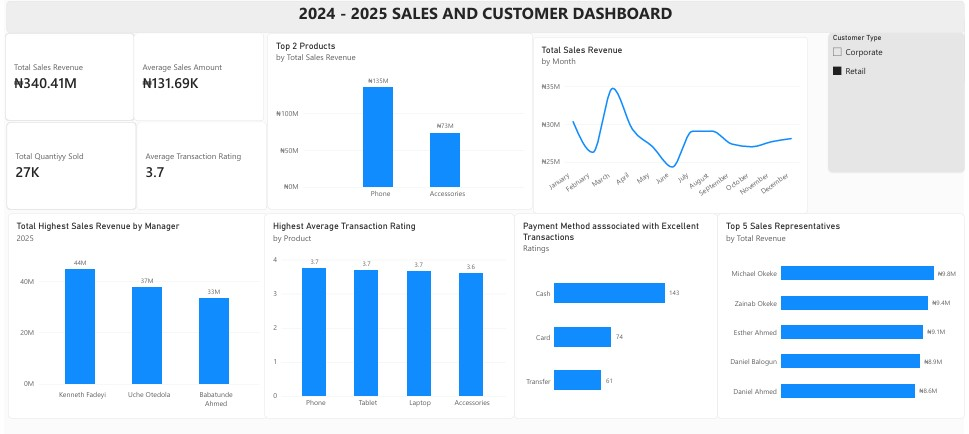

The dashboard page shown, as its layout file describes it:
{"tool":"powerbi","page":{"name":"Sales Customer Dashboard","canvas":[1920,1080],"ordinal":0},"visuals":[{"type":"cardVisual","fields":{"Data":["Sum(Consolidated Table.Sales Amount)"]},"box":[0,63.9,259.5,176.4],"z":0},{"type":"cardVisual","fields":{"Data":["Sum(Consolidated Table.Quantity)"]},"box":[2.8,241.7,260,176],"z":1000},{"type":"cardVisual","fields":{"Data":["Avg(Consolidated Table.Sales Amount)"]},"box":[258.3,63.9,260,176],"z":2000},{"type":"cardVisual","fields":{"Data":["Avg(Consolidated Table.Transaction Rating)"]},"box":[263.9,241.7,260,176],"z":3000},{"type":"clusteredColumnChart","title":"Total Highest Sales Revenue by Manager","fields":{"Y":["Sum(Sales_Data_ 2025.Sales Amount)"],"Category":["Manager.Manager"]},"box":[5.6,425,520,410],"z":4000},{"type":"clusteredColumnChart","title":"Top 2 Products","fields":{"Y":["Sum(Consolidated Table.Sales Amount)"],"Category":["Consolidated Table.Product"]},"box":[525,63.9,530.6,352.8],"z":5000},{"type":"lineChart","title":"Total Sales Revenue","fields":{"Y":["Sum(Consolidated Table.Sales Amount)"],"Category":["Consolidated Table.Transaction Date.Variation.Date Hierarchy.Month"]},"box":[1055.6,72.2,550,352.8],"z":6000},{"type":"clusteredBarChart","title":"Top 5 Sales Representatives","fields":{"Y":["Sum(Consolidated Table.Sales Amount)"],"Category":["Consolidated Table.Sales Rep"]},"box":[1425,425,494.4,411.1],"z":7000},{"type":"clusteredColumnChart","title":"Highest Average Transaction Rating","fields":{"Category":["Consolidated Table.Product"],"Y":["Avg(Consolidated Table.Transaction Rating)"]},"box":[519.4,425,500,410],"z":8000},{"type":"clusteredBarChart","title":"Payment Method asssociated with Excellent  Transactions","fields":{"Category":["Sales_Data_ 2025.Payment Method"],"Y":["CountNonNull(Sales_Data_ 2025.Transaction Quality)"]},"box":[1019.4,425,405.6,411.1],"z":8001},{"type":"slicer","fields":{"Values":["Sales_Data_ 2025.Customer Type"]},"box":[1647.2,63.9,272.2,277.8],"z":8002},{"type":"textbox","box":[2.8,0,1916.7,63.9],"z":8003},{"type":"shape","box":[2.5,845,1917.5,235],"z":8004}]}

Visuals, with their boxes on the page's 1920x1080 design canvas (x1, y1, x2, y2). These are canvas units, not pixel positions in the 969x434 screenshot, which may show the page scaled, cropped or inside an application window:
cardVisual - Sum(Consolidated Table.Sales Amount): <box>0,64,260,240</box>
cardVisual - Sum(Consolidated Table.Quantity): <box>3,242,263,418</box>
cardVisual - Avg(Consolidated Table.Sales Amount): <box>258,64,518,240</box>
cardVisual - Avg(Consolidated Table.Transaction Rating): <box>264,242,524,418</box>
"Total Highest Sales Revenue by Manager" clusteredColumnChart: <box>6,425,526,835</box>
"Top 2 Products" clusteredColumnChart: <box>525,64,1056,417</box>
"Total Sales Revenue" lineChart: <box>1056,72,1606,425</box>
"Top 5 Sales Representatives" clusteredBarChart: <box>1425,425,1919,836</box>
"Highest Average Transaction Rating" clusteredColumnChart: <box>519,425,1019,835</box>
"Payment Method asssociated with Excellent  Transactions" clusteredBarChart: <box>1019,425,1425,836</box>
slicer - Sales_Data_ 2025.Customer Type: <box>1647,64,1919,342</box>
textbox: <box>3,0,1920,64</box>
shape: <box>2,845,1920,1080</box>
